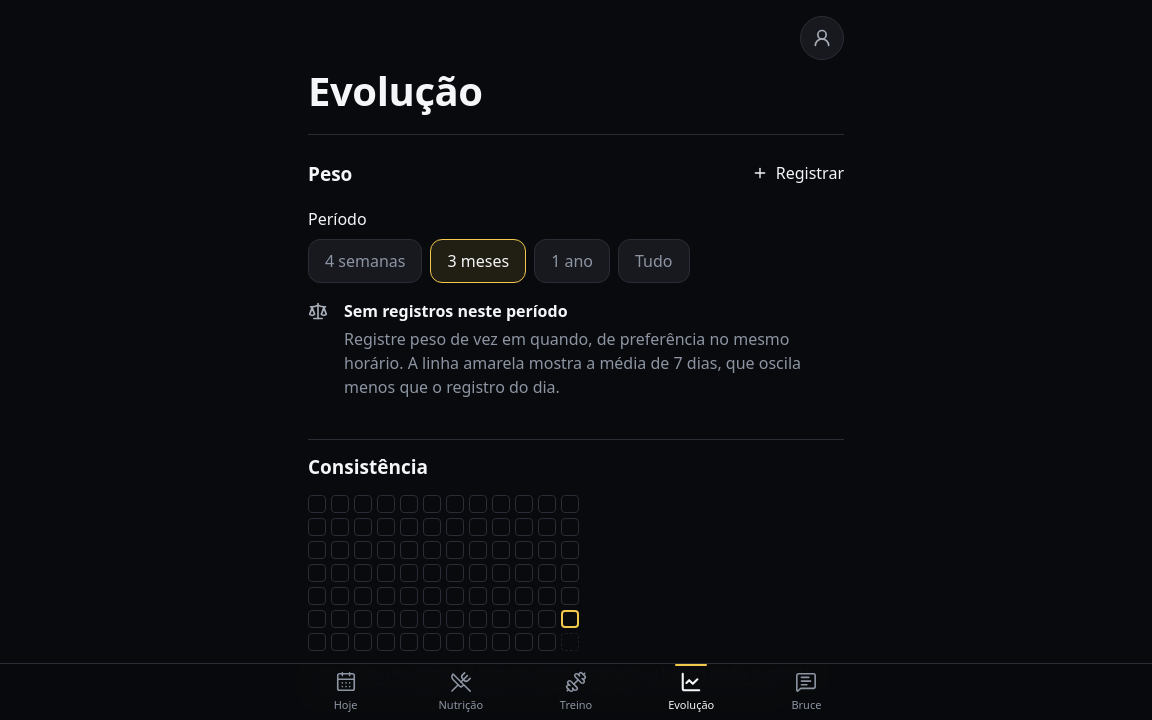
Test: navegação principal › abre o perfil pelo botão do topo
What coordinates should you click on to do the following:
click the link named "Abrir perfil e configurações"
I would click on:
 (822, 38)
Its box is [800,16,844,60].
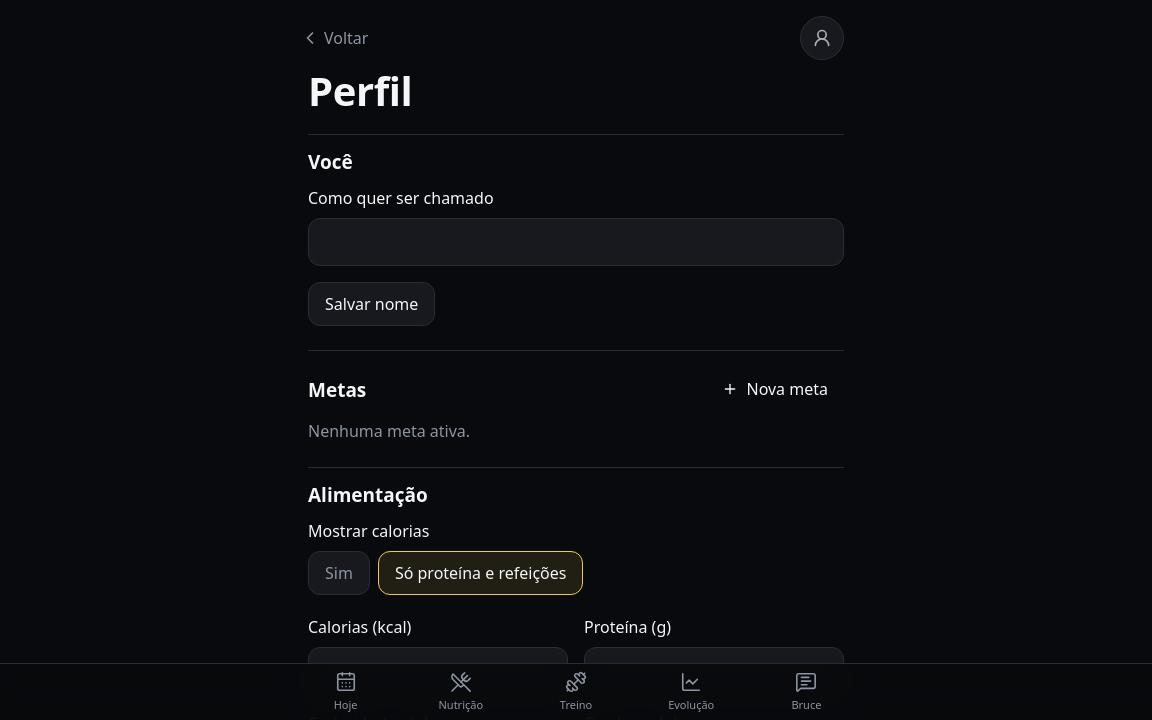
Expected: the heading "Perfil" is shown, [308,63,412,118]
